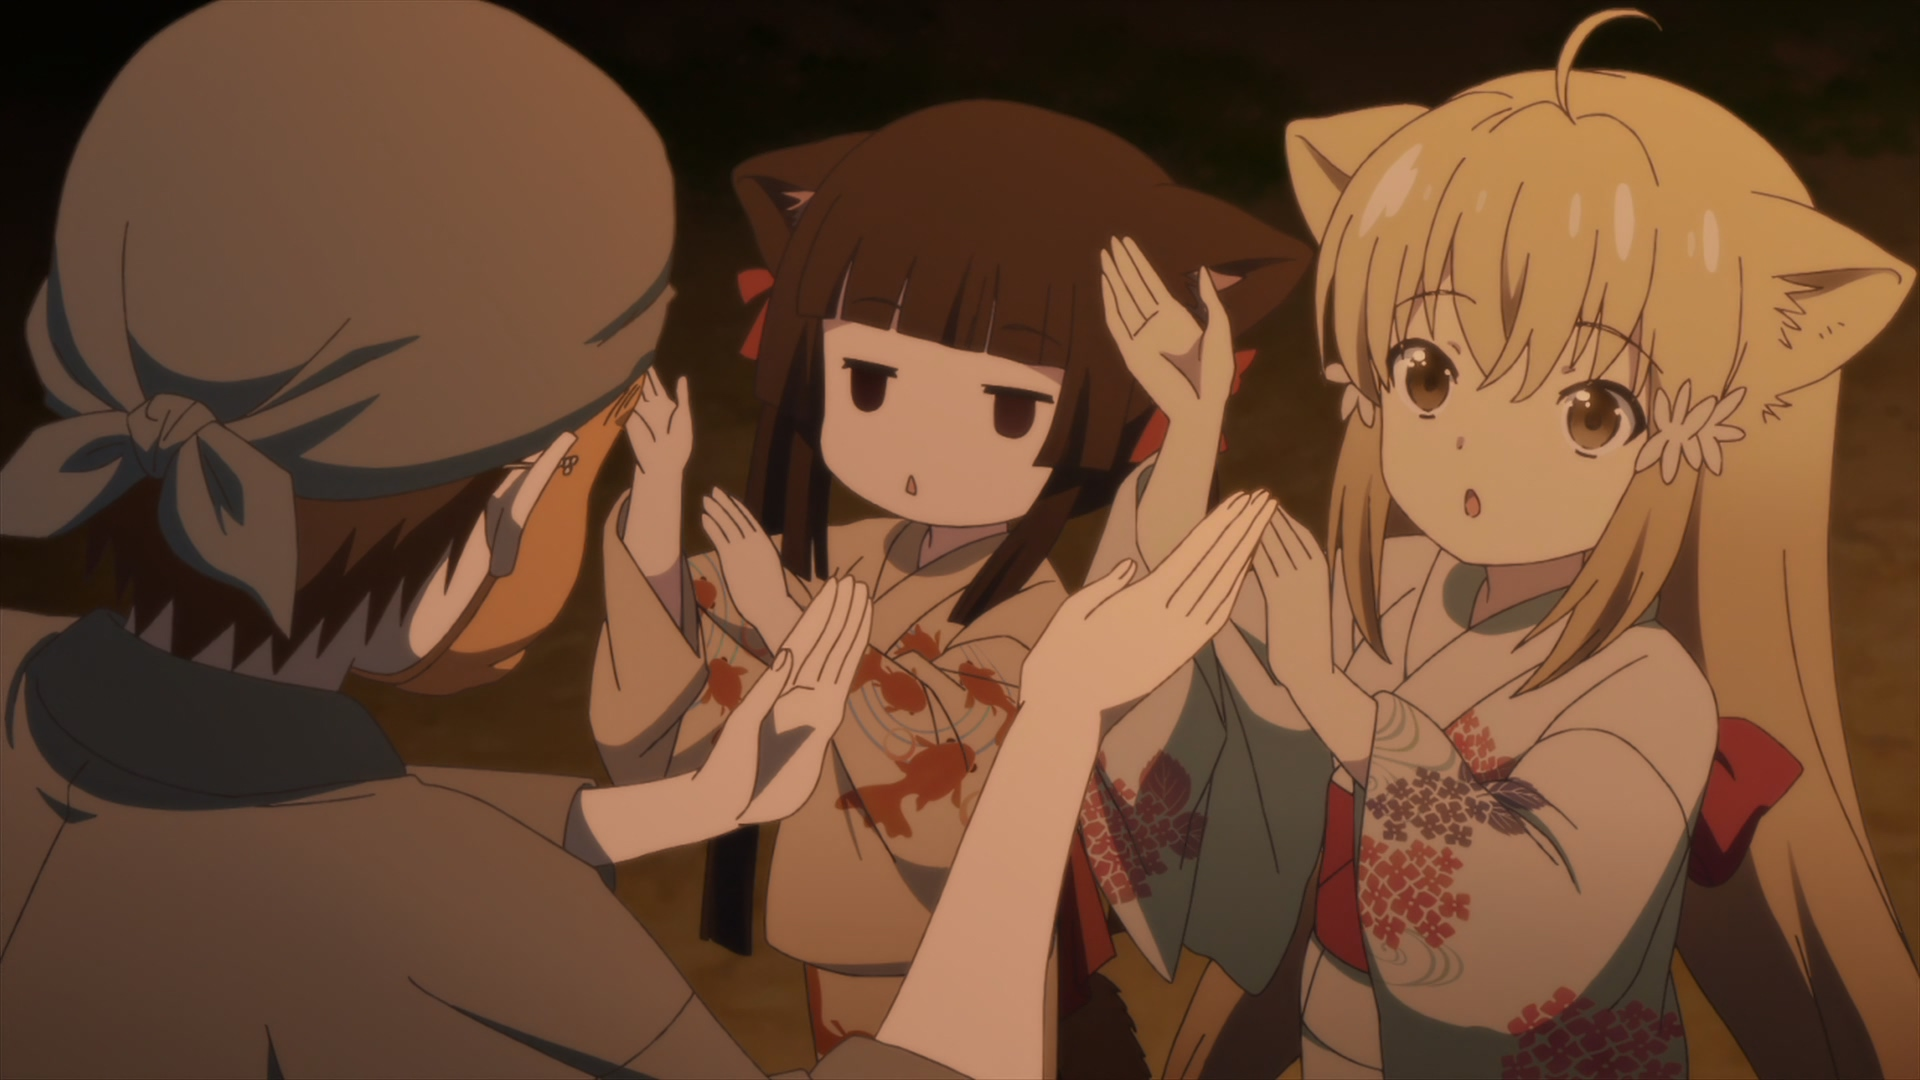其他: (1, 1, 1274, 1080)
柚: (1076, 11, 1920, 1080)
樱: (589, 103, 1312, 1080)
